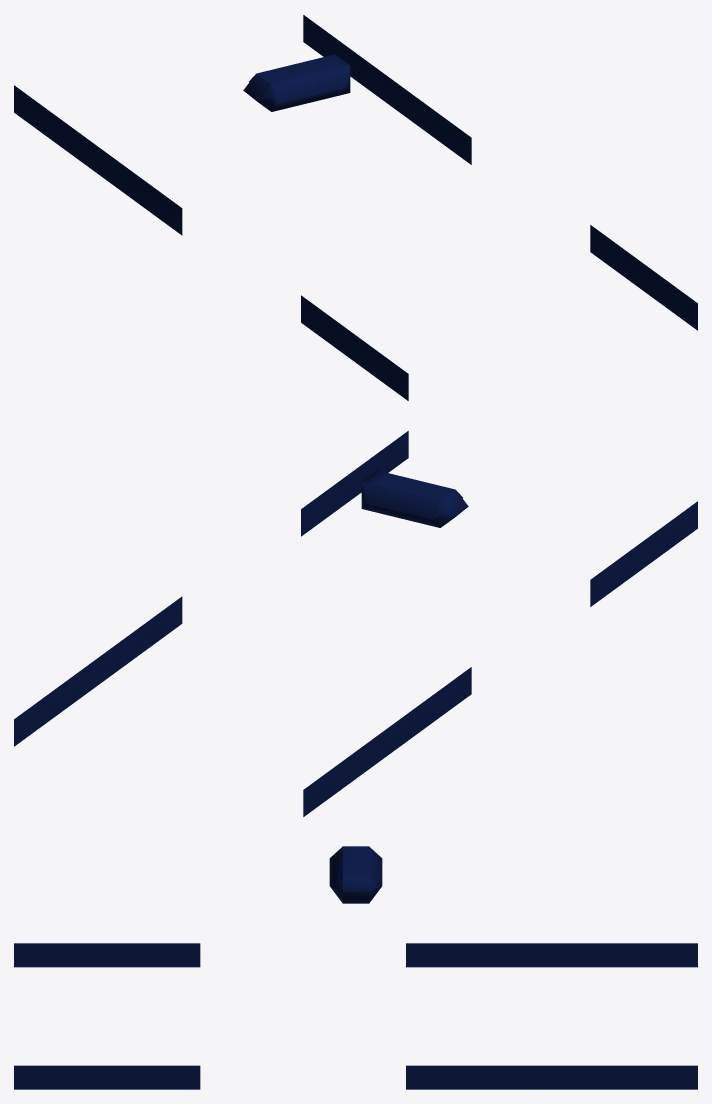
3 renders of one model, top to bottom at view 1: azimuth 30°, elevation 25°; view 2: azimuth 150°, elevation 25°; view 3: azimuth 270°, elevation 25°, orthographic. The views are drawn at different scales.
Size of the model in its own units: 1.76 by 0.96 by 4.16.
Materials: 1 (1 with a texture image).
